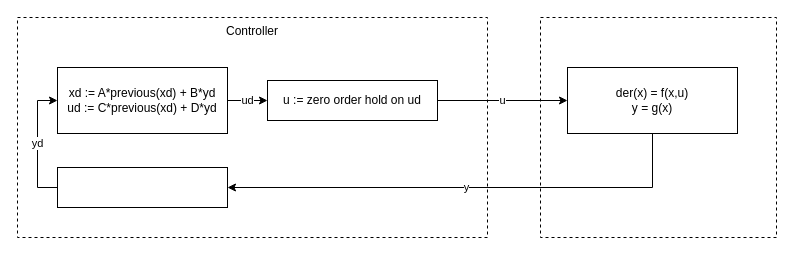
This 794x255 diagram has some shape labels left out. Each missing label, with the box of its shape:
Plant: (540, 16, 776, 238)
yd := sample y at some rate: (56, 166, 228, 208)
